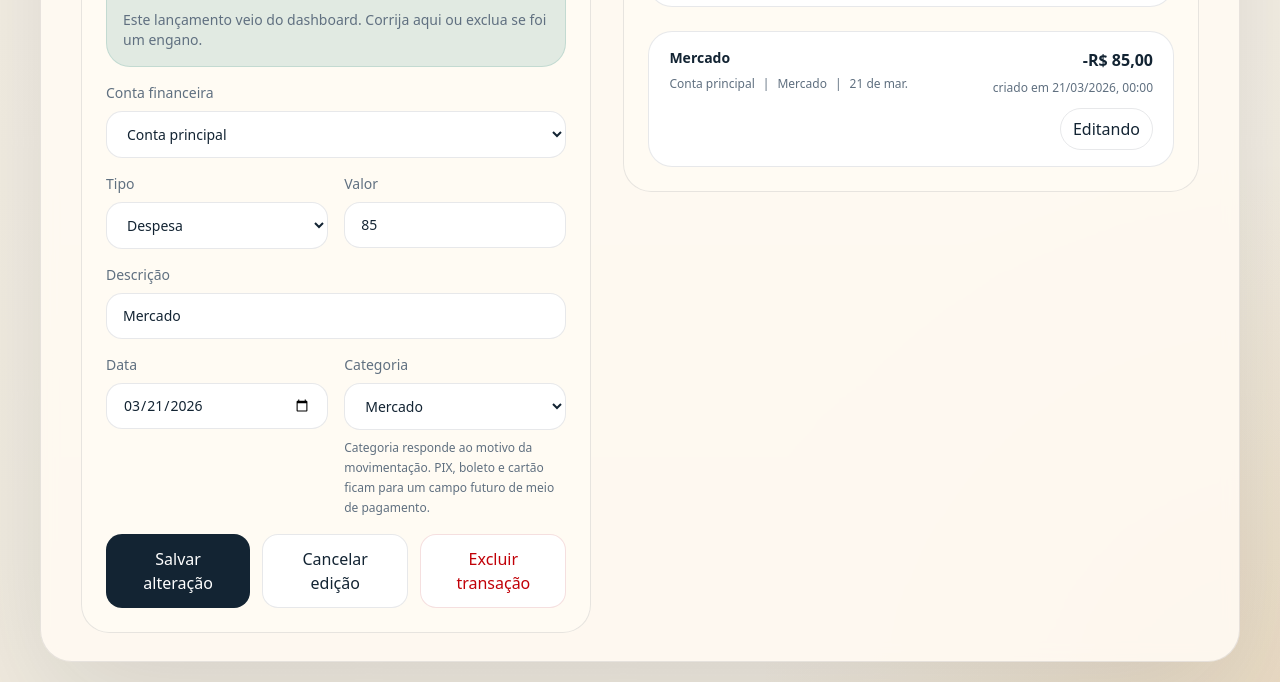
Scenario: TransactionsPage › Transactions_DeleteTransaction_RemovesManualEntryWithConfirmation
(page scrolled)
Step 1. Click the button "Excluir transação" → coordinates (493, 570), box [420, 534, 566, 608]
(page scrolled)
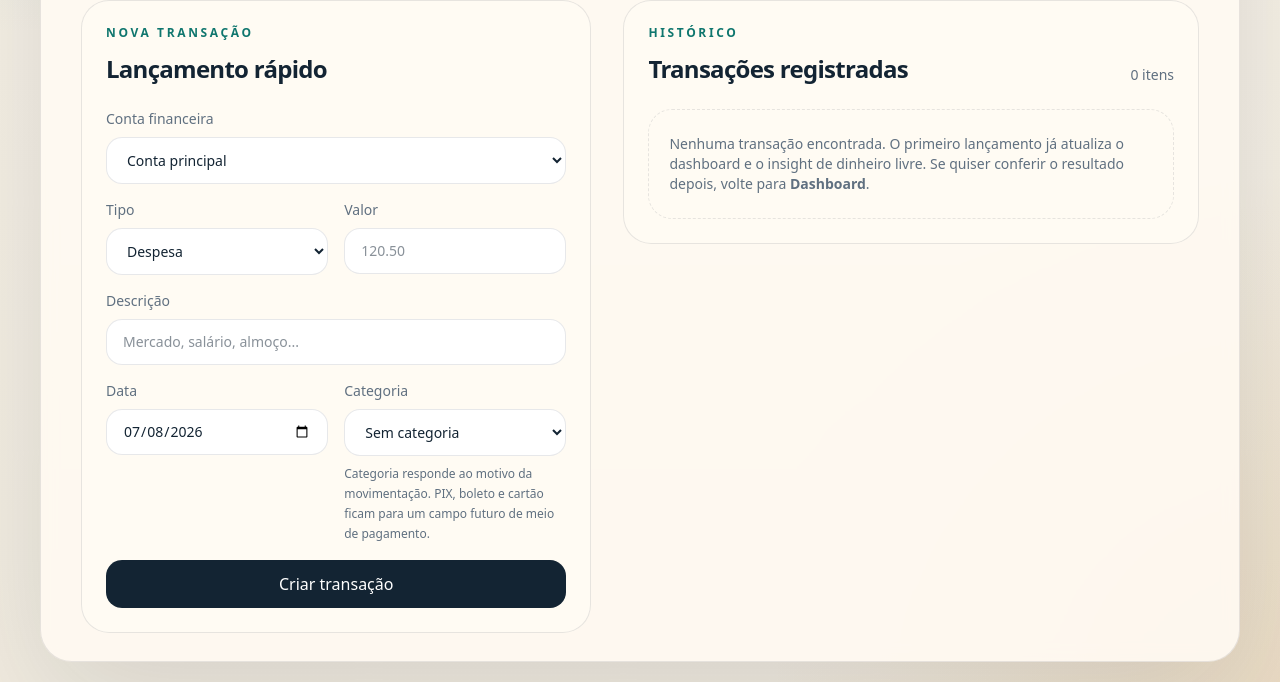
Result: the button "Criar transação" is shown at [106, 560, 566, 608]
